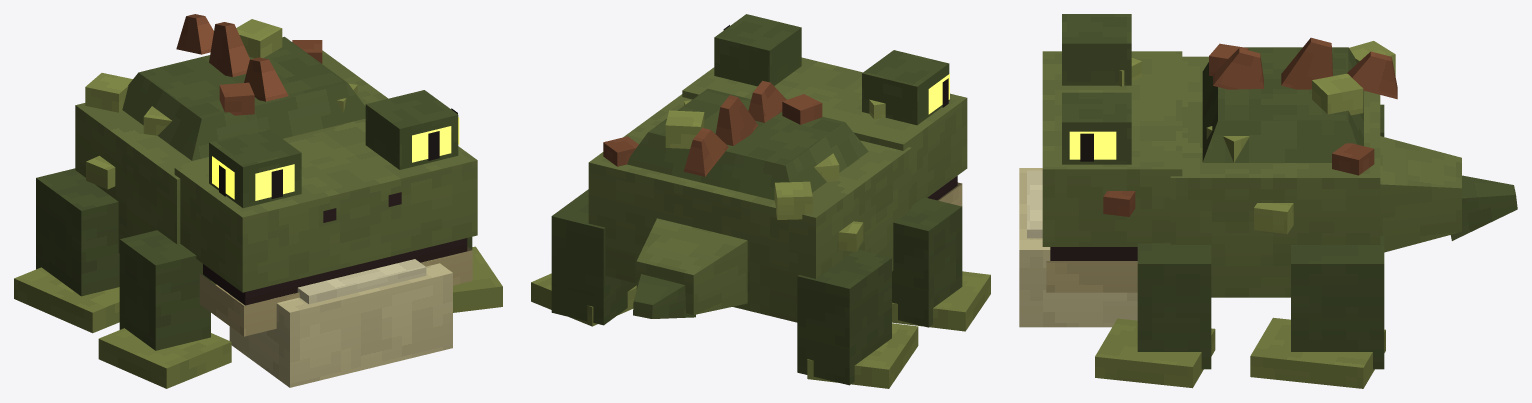
The model's file is mob_spitter.glb.
3 renders of one model, left to right at view 1: azimuth 30°, elevation 25°; view 2: azimuth 150°, elevation 25°; view 3: azimuth 270°, elevation 25°, orthographic. The views are drawn at different scales.
Visible parts, largest first — view 1: mob_spitter, leg_fr, leg_br, glow_eyes, leg_fl; view 2: mob_spitter, leg_br, leg_fr, sway_tail, leg_bl, glow_eyes; view 3: mob_spitter, leg_bl, leg_fl, sway_tail, glow_eyes.
Boxes of the visible parts, bbox=[...] form: mob_spitter: bbox=[75, 14, 477, 387]; leg_fr: bbox=[98, 230, 231, 388]; leg_br: bbox=[14, 168, 119, 333]; glow_eyes: bbox=[212, 117, 459, 200]; leg_fl: bbox=[453, 237, 502, 312]; mob_spitter: bbox=[588, 14, 967, 322]; leg_br: bbox=[797, 249, 918, 388]; leg_fr: bbox=[892, 197, 990, 331]; sway_tail: bbox=[633, 218, 747, 318]; leg_bl: bbox=[531, 189, 636, 326]; glow_eyes: bbox=[928, 74, 949, 114]; mob_spitter: bbox=[1019, 14, 1397, 327]; leg_bl: bbox=[1250, 236, 1385, 388]; leg_fl: bbox=[1095, 243, 1215, 388]; sway_tail: bbox=[1380, 136, 1517, 252]; glow_eyes: bbox=[1069, 131, 1116, 159].
Bounding box in the file's own units: 1.17 × 0.7202 × 1.28.
Materials: 10 (7 with a texture image).
